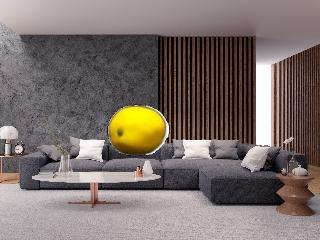lemon: (110, 107, 165, 155)
